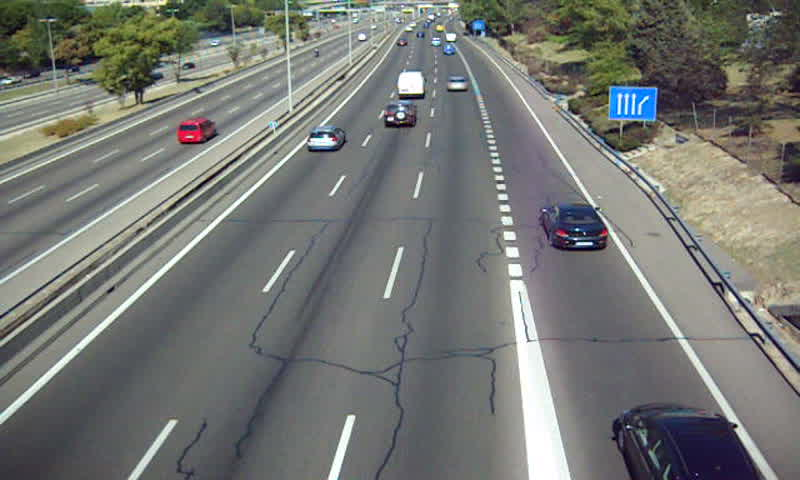car: (620, 404, 762, 480), (542, 204, 608, 249), (306, 124, 344, 151), (383, 102, 417, 129), (445, 75, 470, 93)
van: (396, 71, 426, 99)
